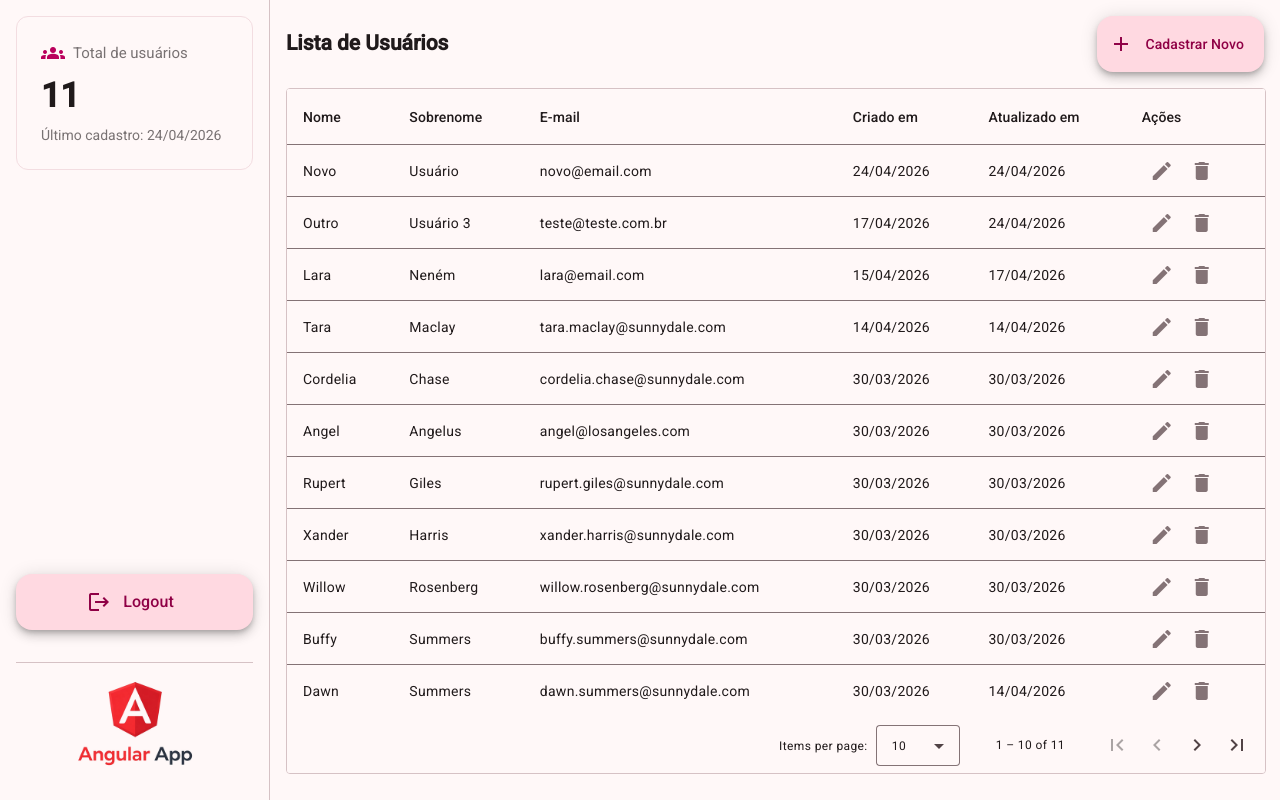
Users Delete › Should select user, open dialog and get error when delete
The image size is (1280, 800).
Click the 1st button with test id "delete-user" at (1202, 171), box [1182,151,1222,191]
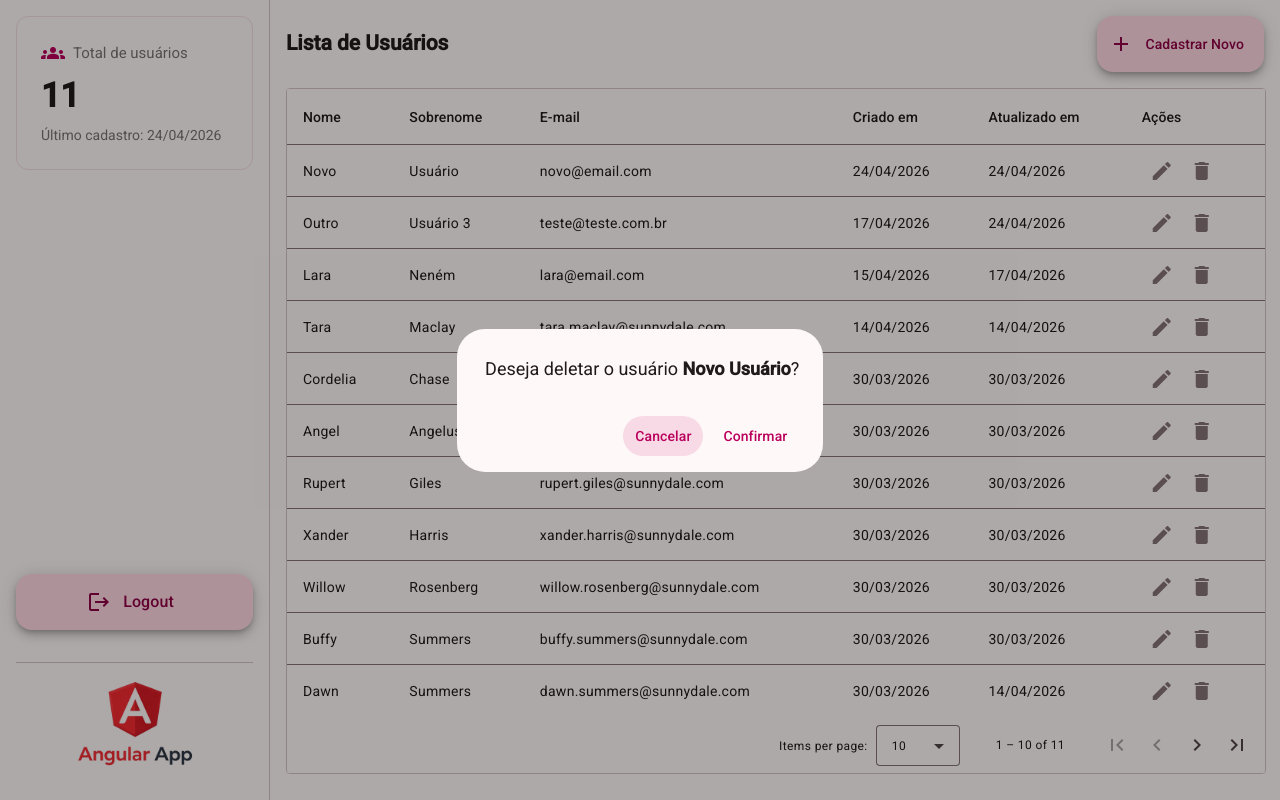
Check: the heading with test id "delete-title" reads "Deseja deletar o usuário Novo Usuário?", box [481,358,800,379]
Click the button "Confirmar" at (756, 436), box [712,416,800,456]
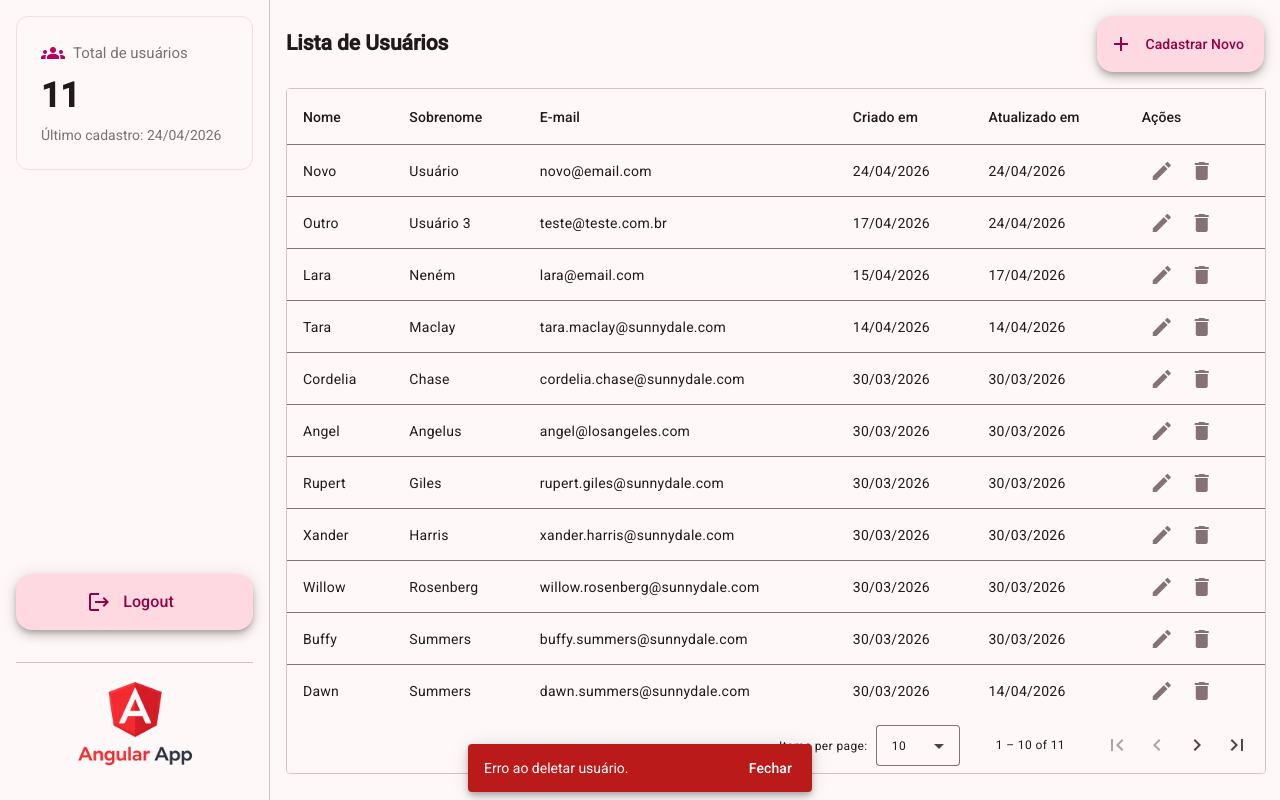
Check: the element showing "Erro ao deletar usuário. Fechar" is shown, box [468,744,804,792]
